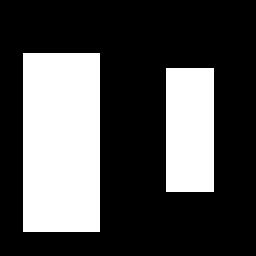person: (23, 53, 99, 231), (166, 68, 213, 191)
